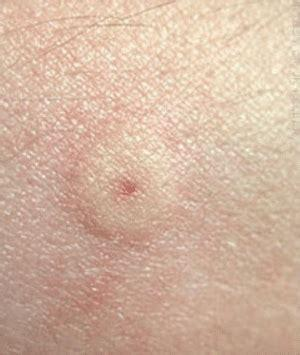Yellow-Jacket: (43, 103, 207, 265)
